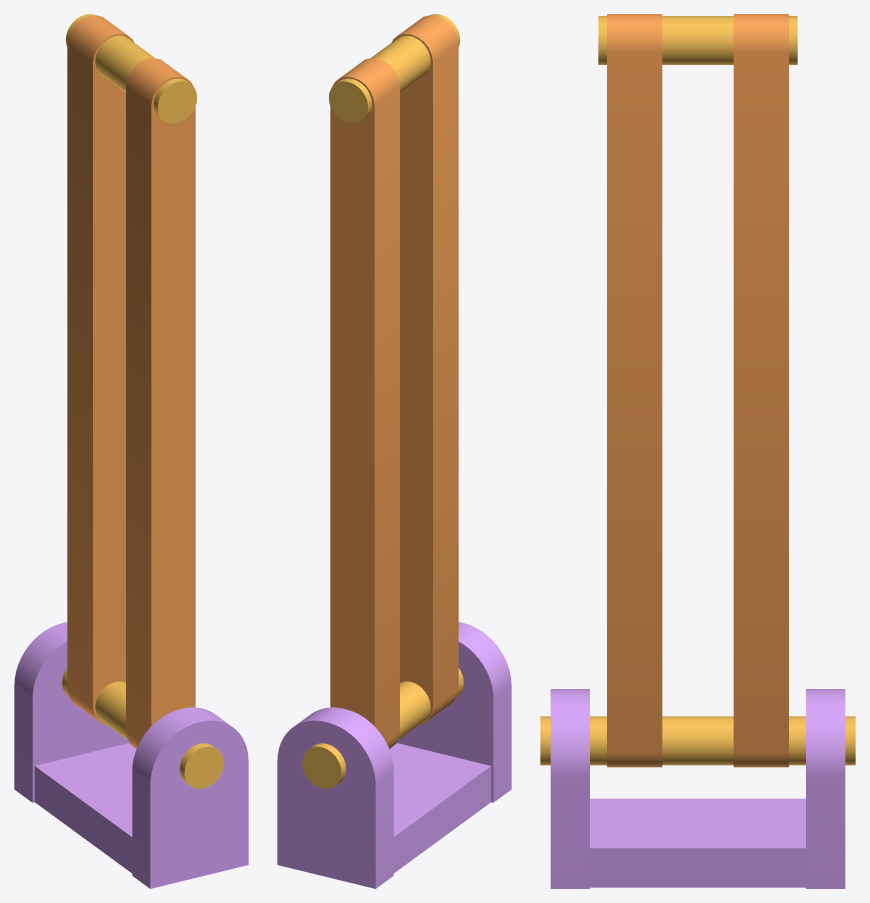
File: Crane Medium.fbx
3 renders of one model, left to right at view 1: azimuth 30°, elevation 25°; view 2: azimuth 150°, elevation 25°; view 3: azimuth 270°, elevation 25°, orthographic. The views are drawn at different scales.
Parts seen in each view (by area): view 1: Crane Medium.003, Crane Medium, Crane Medium.002, Crane Medium.001, Crane Medium.004, Crane Medium.005; view 2: Crane Medium.003, Crane Medium.002, Crane Medium, Crane Medium.001, Crane Medium.004, Crane Medium.005; view 3: Crane Medium.003, Crane Medium.001, Crane Medium.002, Crane Medium, Crane Medium.005, Crane Medium.004.
Part boxes in pixels (box(x1,y1,x2,y2)): Crane Medium.003: box(67, 15, 195, 748); Crane Medium: box(132, 707, 248, 888); Crane Medium.002: box(14, 622, 129, 802); Crane Medium.001: box(34, 743, 136, 873); Crane Medium.004: box(66, 14, 197, 123); Crane Medium.005: box(62, 668, 223, 788); Crane Medium.003: box(330, 15, 458, 748); Crane Medium.002: box(277, 707, 393, 888); Crane Medium: box(396, 622, 511, 802); Crane Medium.001: box(389, 743, 491, 873); Crane Medium.004: box(328, 14, 459, 123); Crane Medium.005: box(302, 668, 463, 788); Crane Medium.003: box(607, 14, 788, 767); Crane Medium.001: box(590, 798, 805, 887); Crane Medium.002: box(806, 689, 845, 888); Crane Medium: box(550, 689, 589, 888); Crane Medium.005: box(540, 716, 855, 765); Crane Medium.004: box(598, 16, 797, 64).
Bounding box in the file's own units: 53.12 × 403 × 136.
